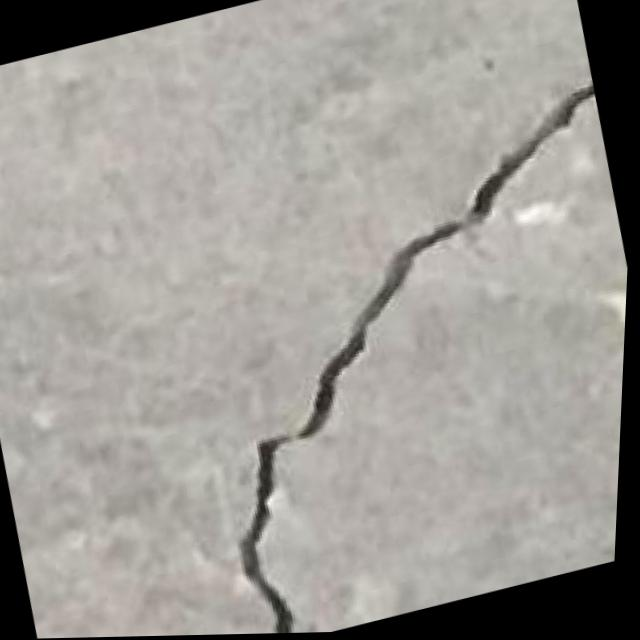Crack: (135, 73, 637, 637)
